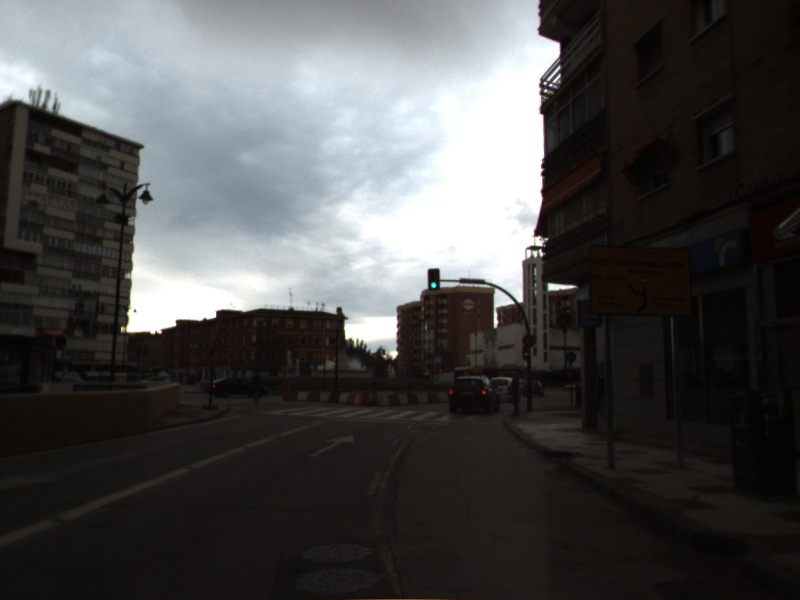STRAIGHT: (305, 432, 356, 460)
